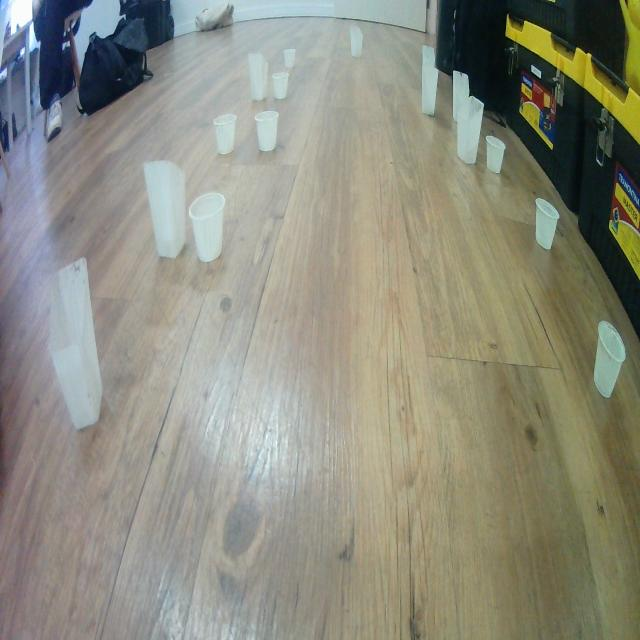erva_daninha: (46, 256, 102, 432), (142, 159, 186, 259), (457, 95, 484, 165), (421, 60, 439, 119), (248, 52, 268, 102), (452, 70, 470, 123), (349, 25, 364, 57)
planta: (188, 192, 226, 264), (593, 319, 626, 399), (535, 197, 560, 251), (254, 110, 280, 151), (214, 113, 238, 155), (486, 135, 506, 174), (272, 72, 288, 100), (283, 48, 296, 68)
